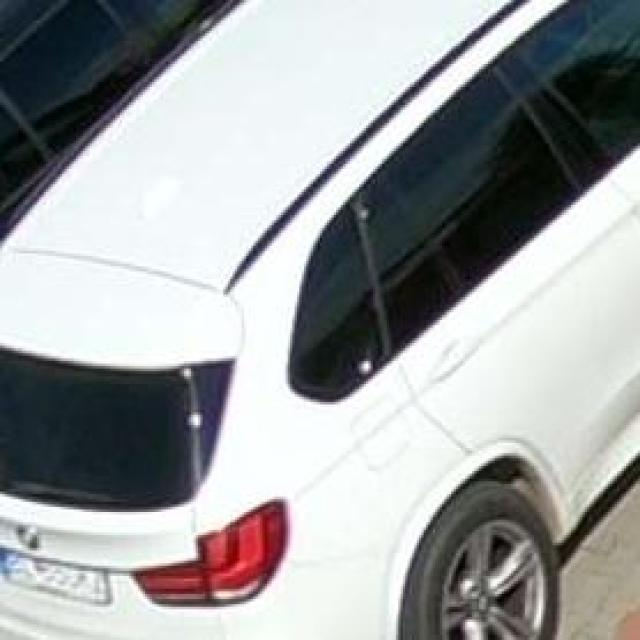Car: (14, 22, 622, 640)
